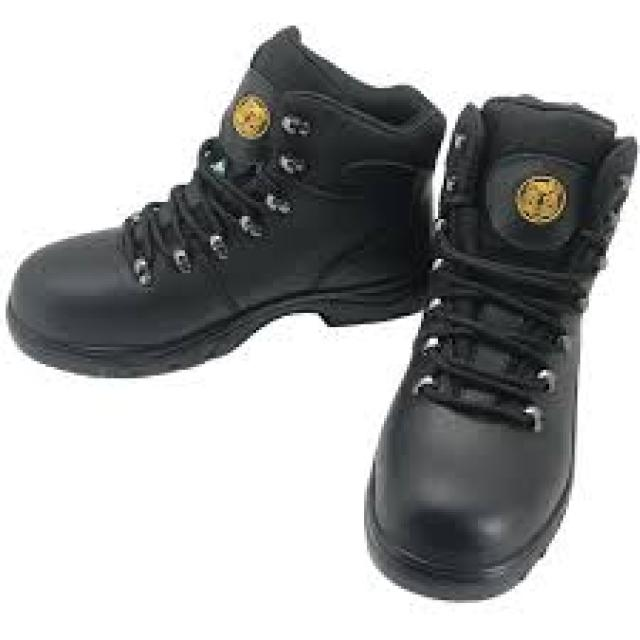shoes: (9, 28, 636, 598)
